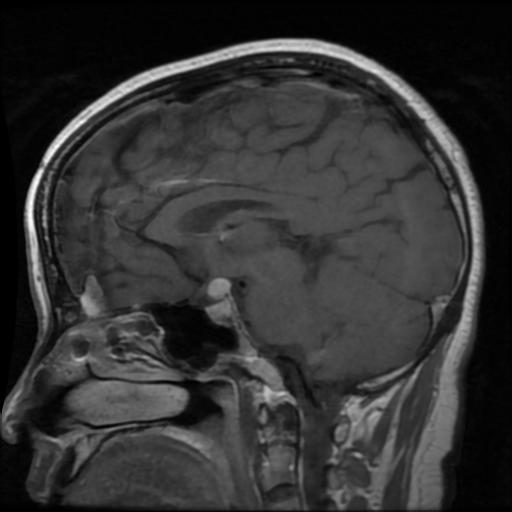Pituirity_tumour: (203, 276, 234, 320)
